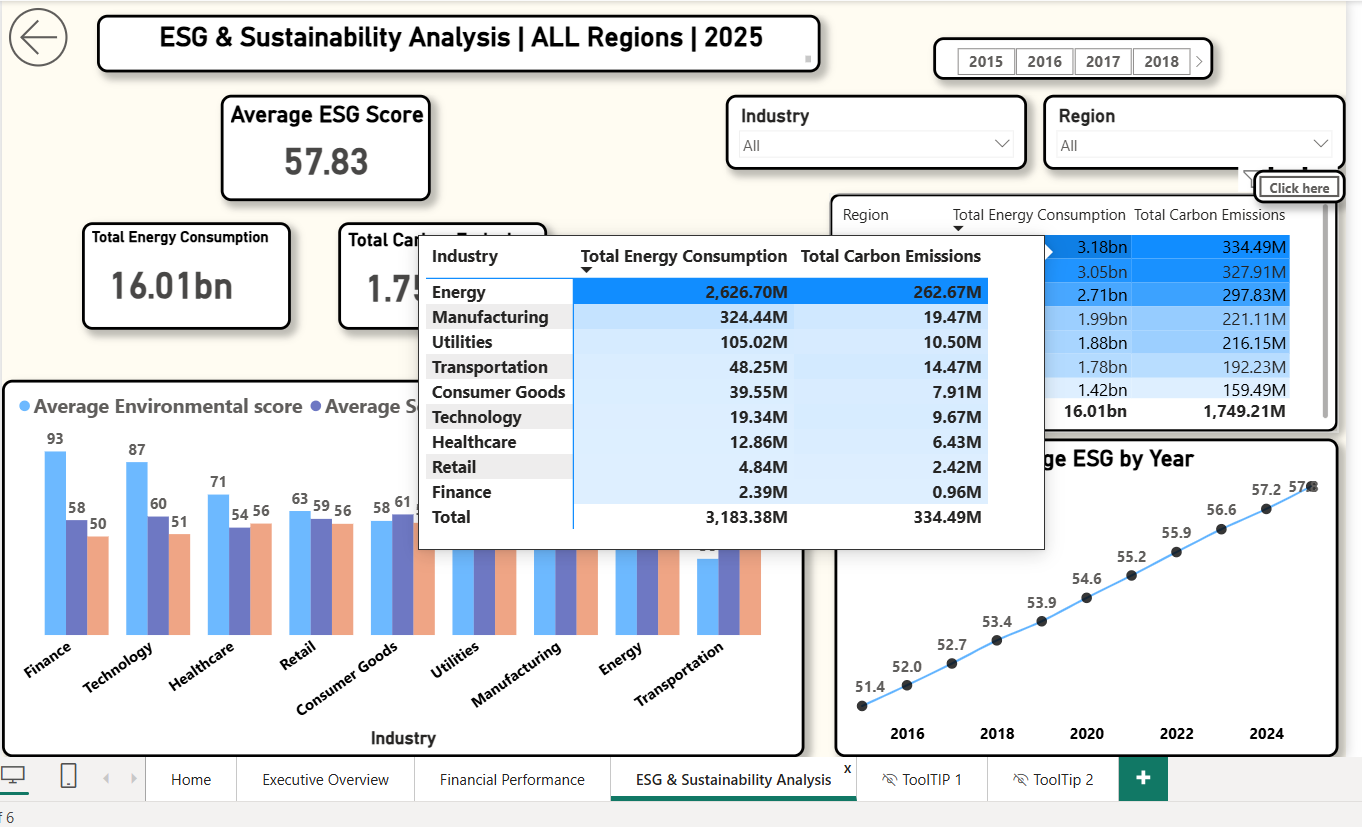

The page's visual inventory and layout, read from the dashboard file:
{"tool":"powerbi","page":{"name":"ESG & Sustainability Analysis","canvas":[1920,1080],"ordinal":3},"visuals":[{"type":"slicer","fields":{"Values":["dim_date.Year"]},"box":[1330.4,51.8,400,60.7],"z":0},{"type":"slicer","fields":{"Values":["dim_company.Industry"]},"box":[1033.9,133.9,430.4,107.1],"z":1000},{"type":"slicer","fields":{"Values":["dim_company.Region"]},"box":[1487.5,133.9,432.1,107.1],"z":2000},{"type":"textbox","box":[135.7,19.6,1033.9,82.1],"z":3000},{"type":"cardVisual","title":"Average ESG Score","fields":{"Data":["dim_company.Average ESG"]},"box":[312.5,133.9,300,151.8],"z":4000},{"type":"cardVisual","title":"Total Carbon Emissions","fields":{"Data":["dim_company.Total Carbon Emssions"]},"box":[480.4,316.1,298.2,153.6],"z":5000},{"type":"cardVisual","title":"Total Energy Consumption","fields":{"Data":["dim_company.Total Energy Consumption"]},"box":[114.3,316.1,298.2,153.6],"z":6000},{"type":"clusteredColumnChart","fields":{"Category":["dim_company.Industry"],"Y":["dim_company.Average Environmental score","dim_company.Average Social Score","dim_company.Average governance Score"]},"box":[0,541.1,1146.4,539.3],"z":7000},{"type":"pivotTable","fields":{"Rows":["dim_company.Region"],"Values":["dim_company.Total Energy Consumption","dim_company.Total Carbon Emssions"]},"box":[1182.1,275,726.8,341.1],"z":8000},{"type":"lineChart","fields":{"Y":["dim_company.Average ESG"],"Category":["dim_date.Year"]},"box":[1189.3,625,719.6,455.4],"z":9000},{"type":"actionButton","title":"Click here to check an extra (Carbon Emissions vs Revenue) Analysis","box":[1003.6,339.3,166.1,107.1],"z":11000},{"type":"actionButton","title":"Click here to check an extra (Carbon Emissions vs Revenue) Analysis","box":[1787.5,241.1,132.1,48.2],"z":13000},{"type":"actionButton","box":[0,0,485.7,103.6],"z":16000}]}

Visuals, with their boxes in screenshot pixels (x1, y1, x2, y2):
slicer - dim_date.Year: x1=931 y1=33 x2=1211 y2=75
slicer - dim_company.Industry: x1=723 y1=90 x2=1024 y2=165
slicer - dim_company.Region: x1=1041 y1=90 x2=1343 y2=165
textbox: x1=95 y1=10 x2=818 y2=68
"Average ESG Score" cardVisual: x1=219 y1=90 x2=428 y2=196
"Total Carbon Emissions" cardVisual: x1=336 y1=218 x2=545 y2=325
"Total Energy Consumption" cardVisual: x1=80 y1=218 x2=289 y2=325
clusteredColumnChart - dim_company.Industry x dim_company.Average Environmental score: x1=0 y1=375 x2=802 y2=752
pivotTable - dim_company.Region x dim_company.Total Energy Consumption: x1=827 y1=189 x2=1335 y2=427
lineChart - dim_company.Average ESG x dim_date.Year: x1=832 y1=434 x2=1335 y2=752
"Click here to check an extra (Carbon Emissions vs Revenue) Analysis" actionButton: x1=702 y1=234 x2=818 y2=309
"Click here to check an extra (Carbon Emissions vs Revenue) Analysis" actionButton: x1=1250 y1=165 x2=1343 y2=199
actionButton: x1=0 y1=0 x2=340 y2=69
